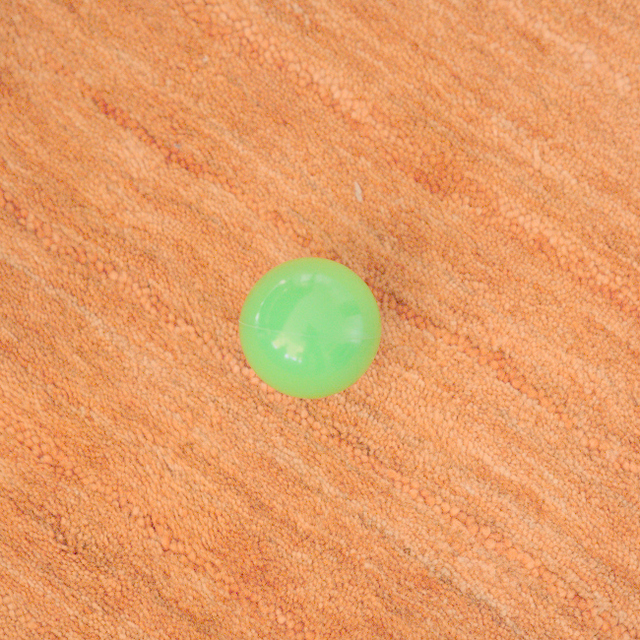Ball: (241, 259, 379, 398)
